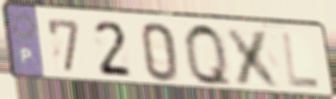0: (139, 21, 180, 84)
2: (91, 19, 133, 80)
7: (44, 18, 81, 75)
L: (279, 31, 322, 90)
Q: (181, 20, 236, 91)
X: (223, 26, 286, 90)
